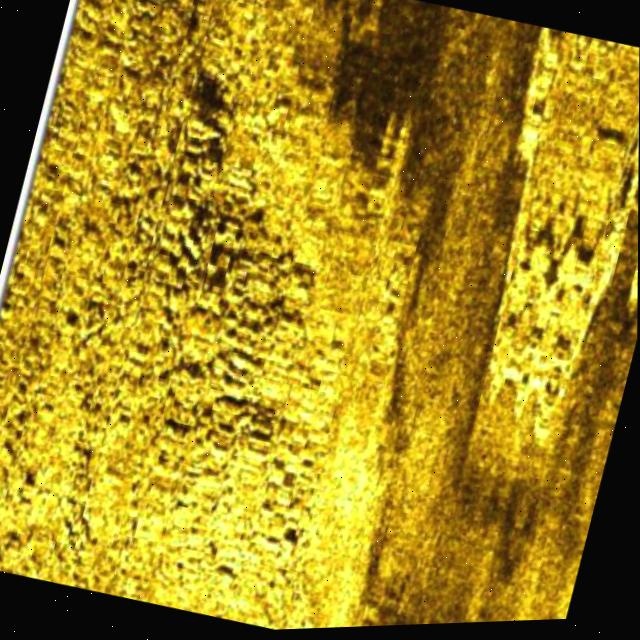bedrock group: (0, 0, 464, 640), (441, 27, 640, 470)
